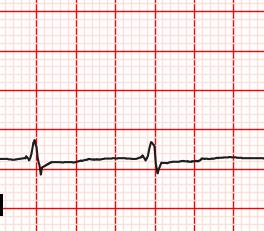Poor R Progression: (25, 138, 43, 163), (143, 138, 160, 163)
ST Depression: (25, 153, 49, 178), (143, 156, 167, 177)
